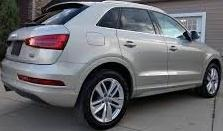Crossovers: (3, 3, 223, 130)
